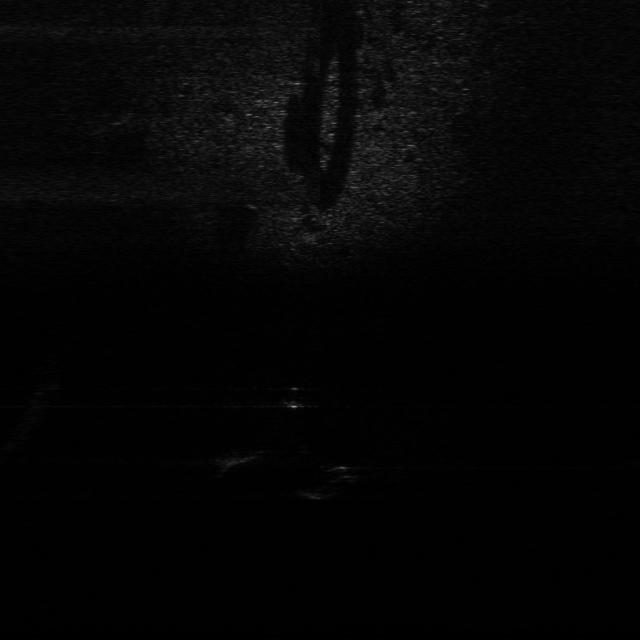ball: (274, 382, 314, 410)
square cage: (209, 443, 267, 475)
tyre: (293, 461, 363, 504)
